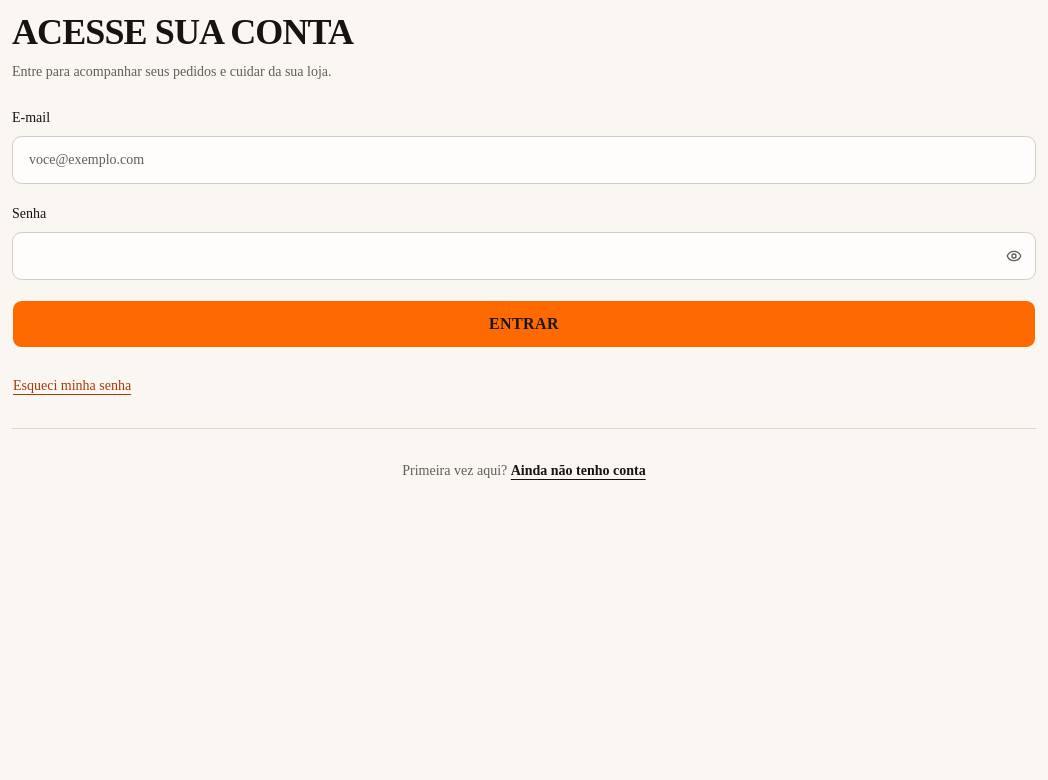
Test case: offers password recovery and sign-up next to a wrong-password error
The width and height of the screenshot is (1048, 780).
Type "buyer@example.test" into the field labelled "E-mail" at {"x": 524, "y": 160}, box [12,136,1036,184]
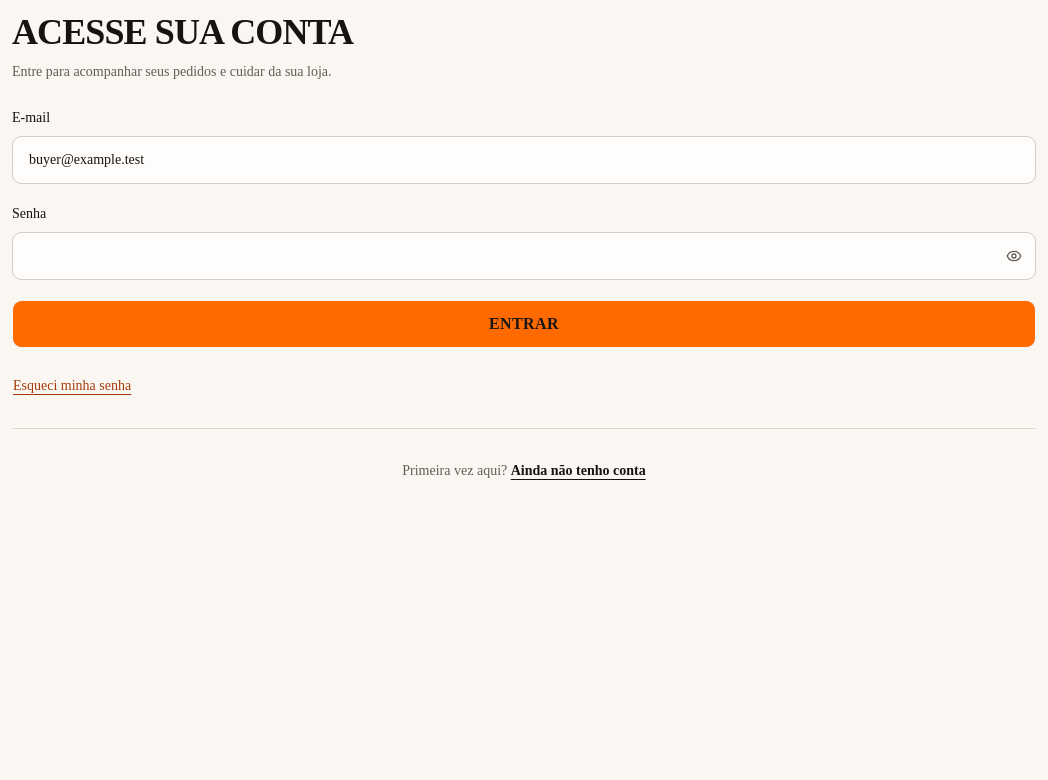
Type "wrong-password" into the password field labelled "Senha" at {"x": 524, "y": 256}, box [12,232,1036,280]
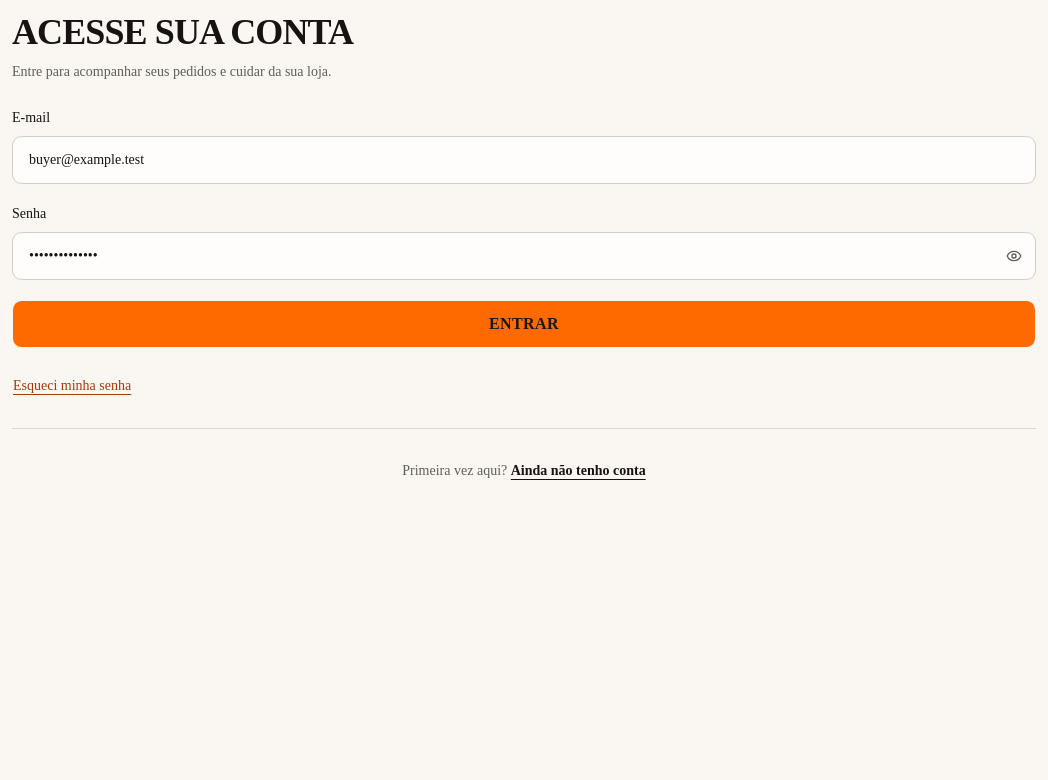
Submit the form named "Entrar"
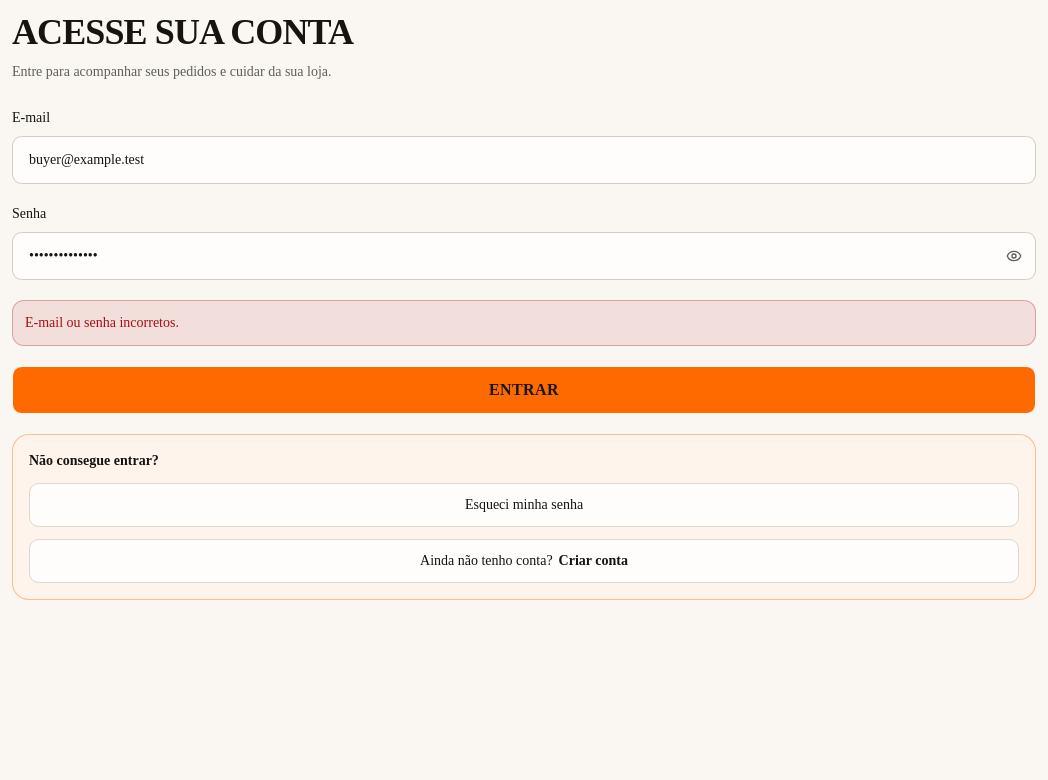
expect the number of links "Esqueci minha senha" is 1: met, box [29,483,1019,527]
expect the message reads "E-mail ou senha incorretos.": met, box [25,315,179,330]
expect the text "Não consegue entrar?" is shown: met, box [29,453,159,468]
Click the button "Ainda não tenho conta? Criar conta" at {"x": 524, "y": 561}, box [29,539,1019,583]
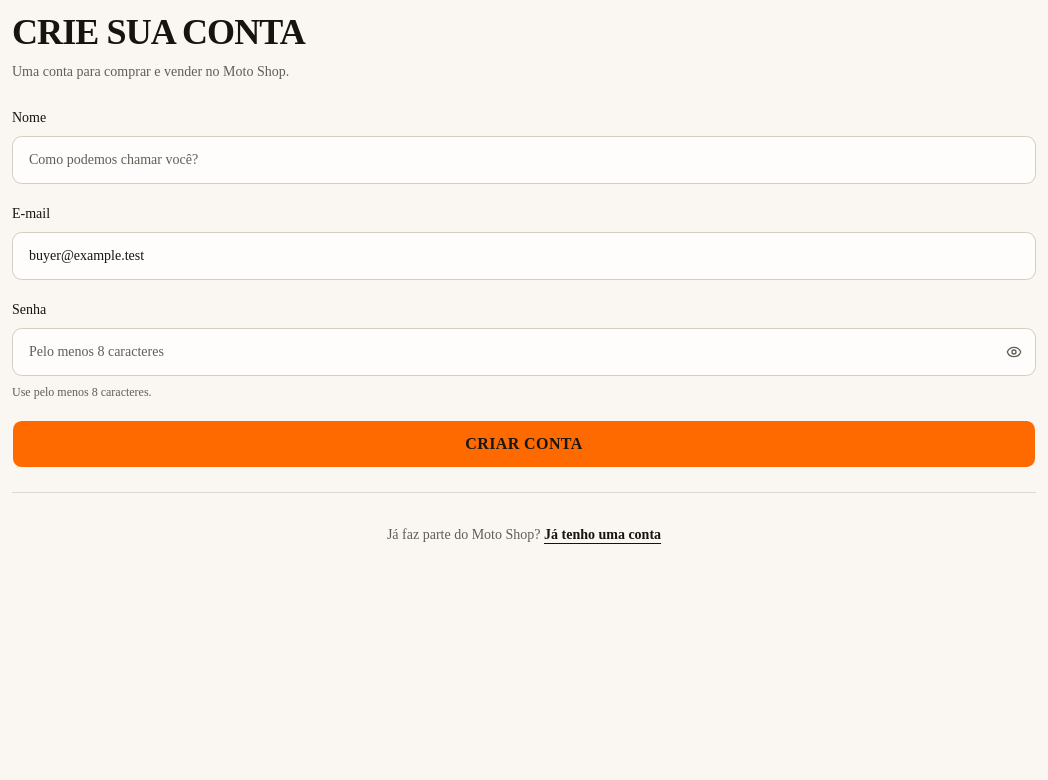
expect the heading "Crie sua conta" is shown: met, box [12,12,305,52]
expect the text "Não consegue entrar?" is gone: met
